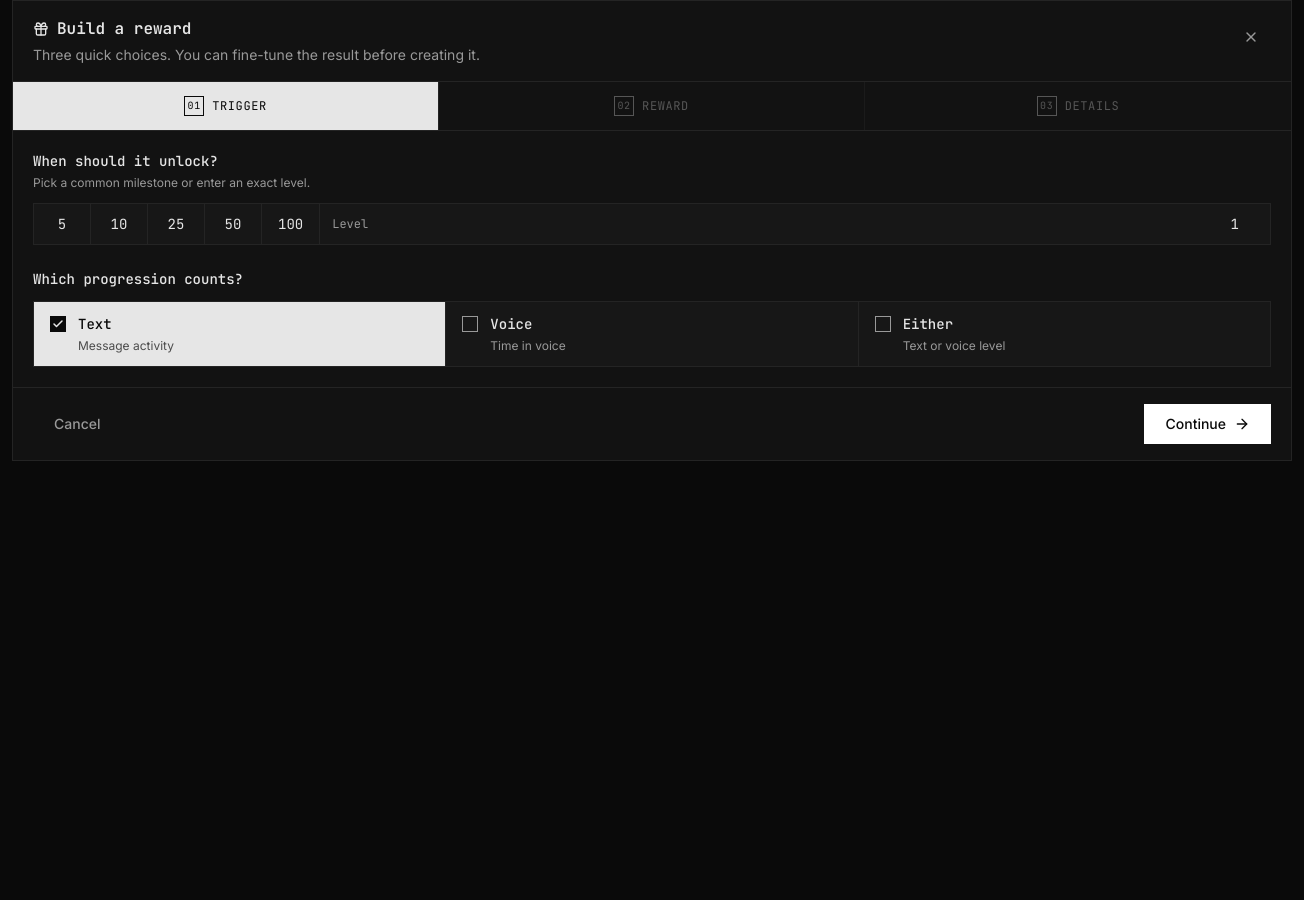
Test: RewardBuilder › keeps the user on the reward step until its target is configured
Click the button "Continue" at (1208, 424), box 1144,404 -> 1271,444
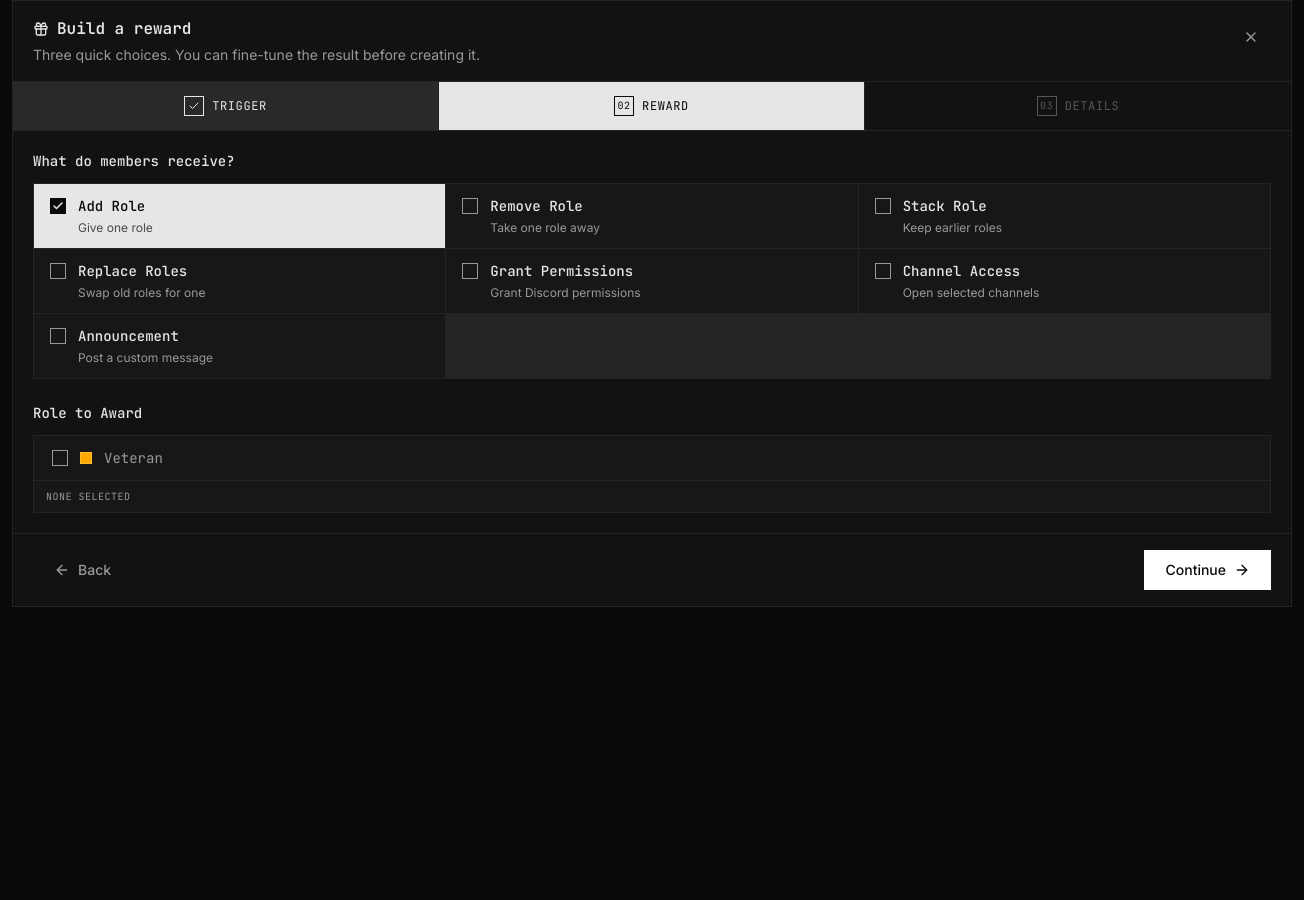
Click the button "Continue" at (1208, 570), box 1144,550 -> 1271,590
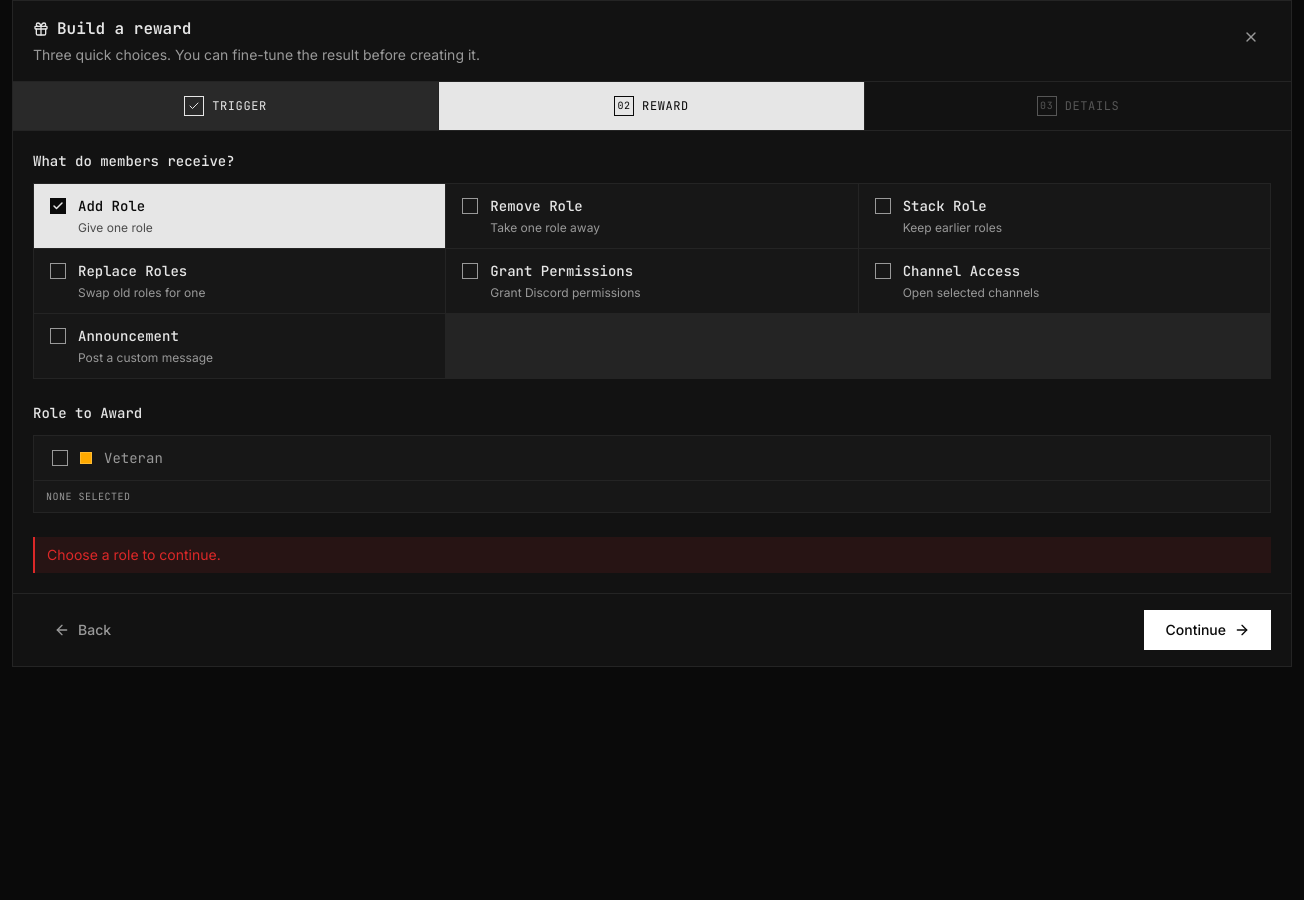
Now the message reads "Choose a role to continue.", box 47,546 -> 221,563
